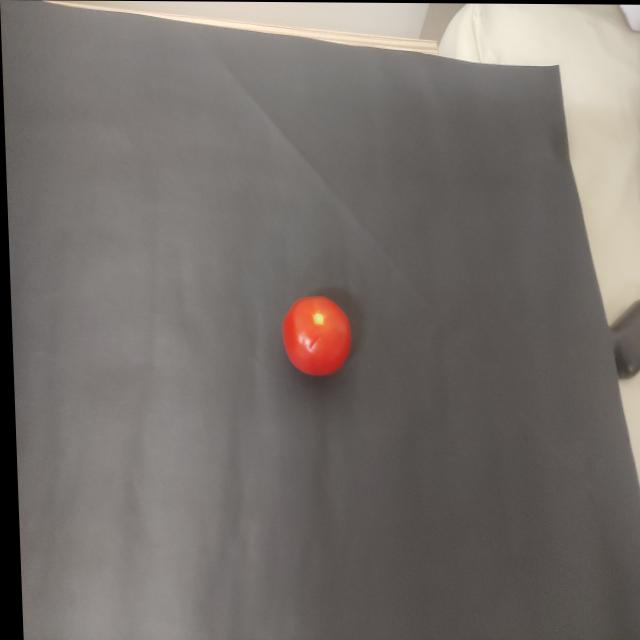kirmizi: (258, 272, 360, 387)
